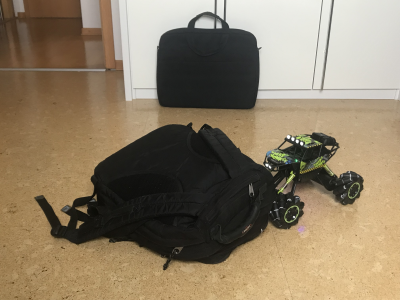remote control car: (258, 129, 365, 230)
